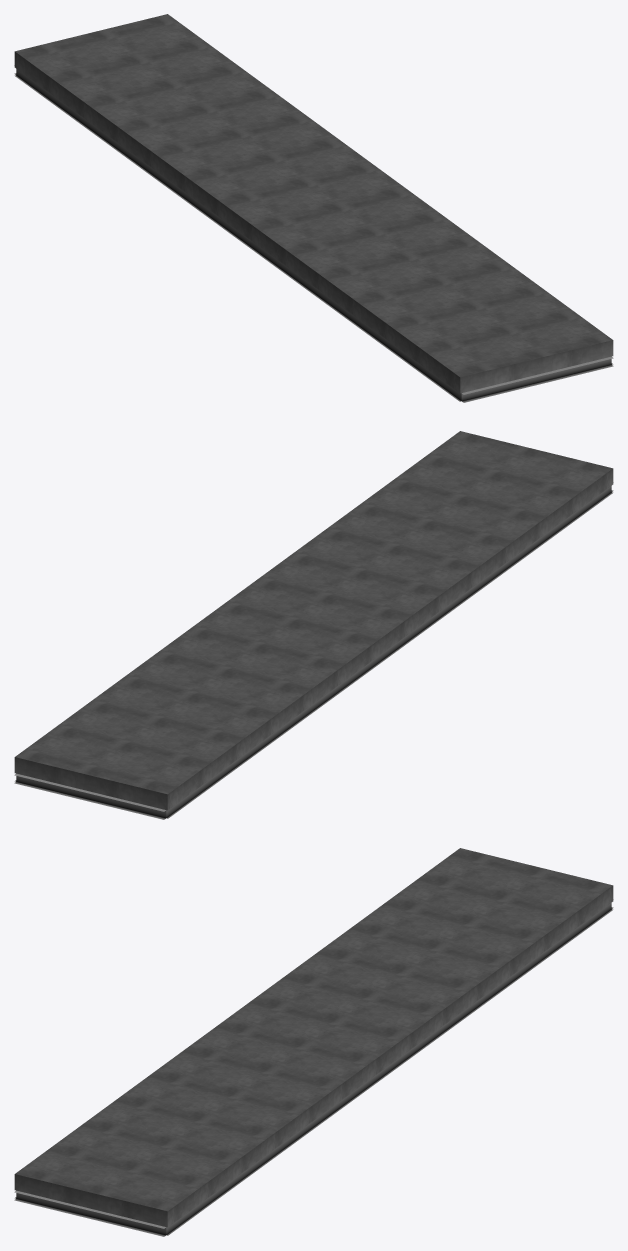
The model's file is AMB_IZM_O2_YANE.glb.
3 renders of one model, top to bottom at view 1: azimuth 30°, elevation 25°; view 2: azimuth 150°, elevation 25°; view 3: azimuth 330°, elevation 25°, orthographic.
Visible parts, largest first — view 1: BASE, J08; view 2: BASE, J00; view 3: BASE, J08.
Boxes of the visible parts, x1,y1,x2,y2 form: BASE: (14,14,613,401); J08: (461,356,613,402); BASE: (14,431,613,818); J00: (14,773,166,819); BASE: (14,848,613,1235); J08: (14,1190,166,1236).
Size of the model in its own units: 19.95 by 3.24 by 101.
Materials: 7 (6 with a texture image).
